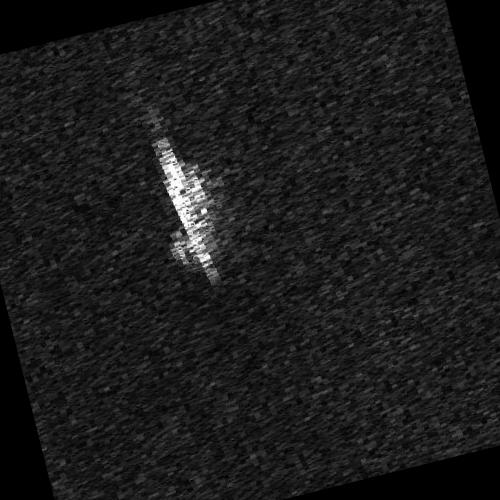ship: (154, 140, 215, 275)
